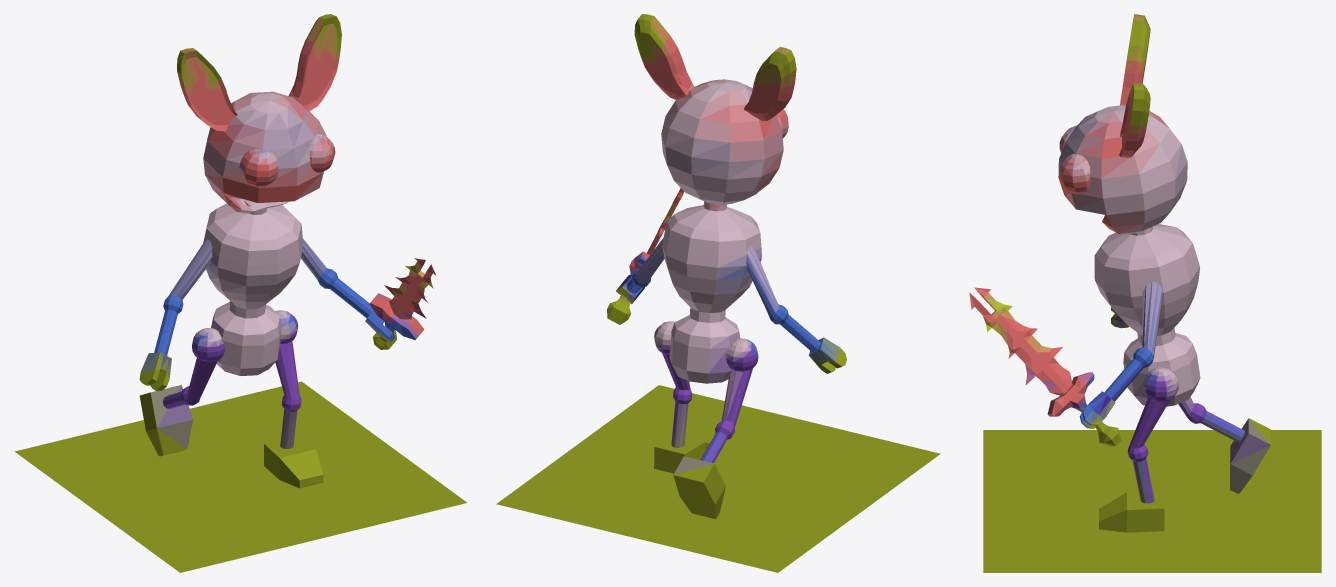
The picture shows the model from 3 angles, left to right: view 1: azimuth 30°, elevation 25°; view 2: azimuth 150°, elevation 25°; view 3: azimuth 270°, elevation 25°; orthographic projection. The views are drawn at different scales.
Visible parts, largest first — view 1: world; view 2: world; view 3: world.
Boxes of the visible parts, x1,y1,x2,y2 form: world: (14,14,467,572); world: (496,14,940,572); world: (969,14,1321,572).
Bounding box in the file's own units: 0.6712 × 1 × 0.6988.
